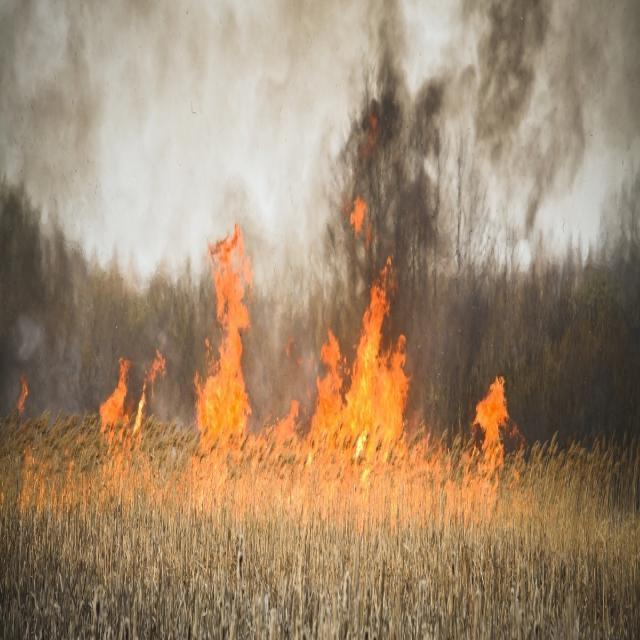Fire: (94, 247, 539, 523)
Smoke: (263, 14, 640, 368), (0, 15, 242, 397)
